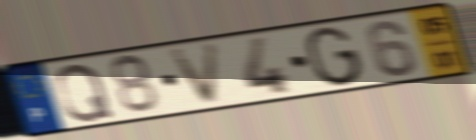4: (243, 33, 294, 97)
6: (364, 18, 419, 79)
8: (107, 53, 161, 118)
G: (303, 25, 366, 89)
Q: (52, 61, 117, 124)
V: (166, 40, 223, 109)
